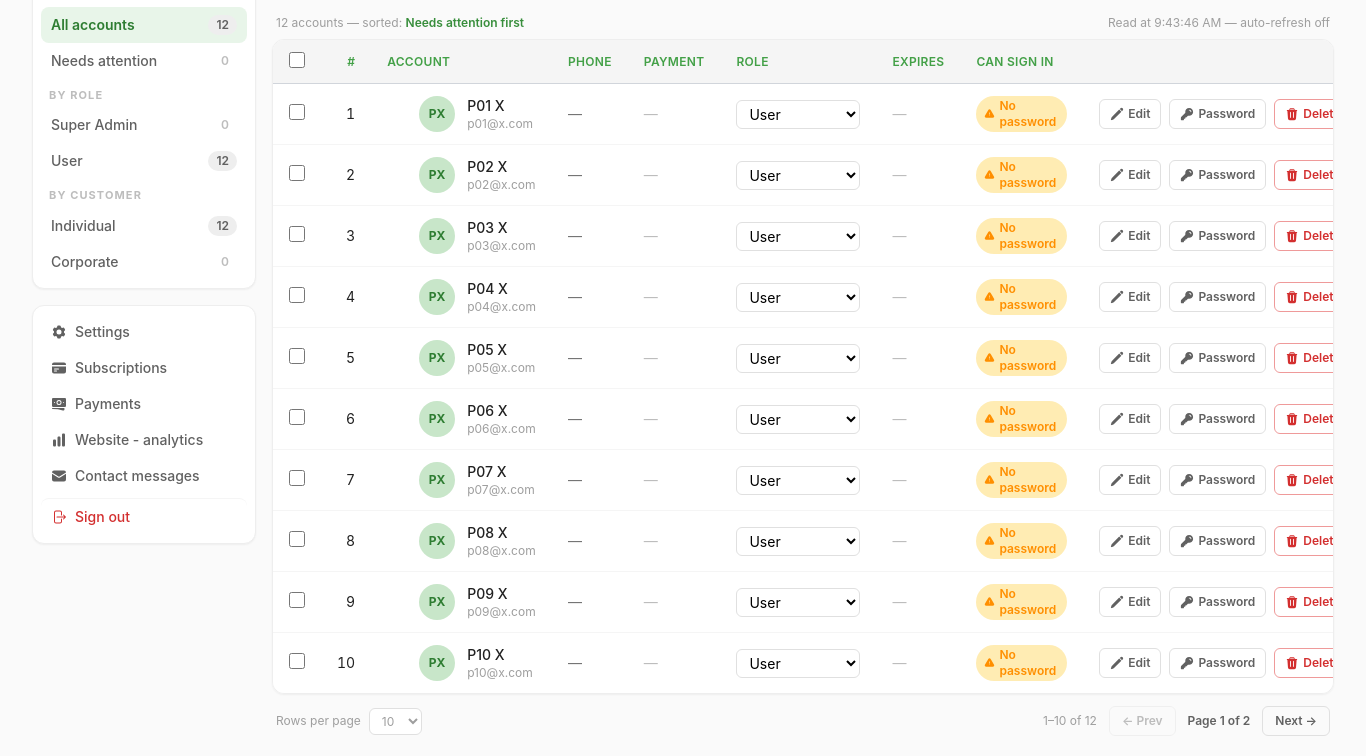
pagination › Next reaches the last two and nothing beyond them
The image size is (1366, 756).
(page scrolled)
Click the button "Next →".
click(1296, 721)  # box x1=1262 y1=706 x2=1330 y2=736
(page scrolled)
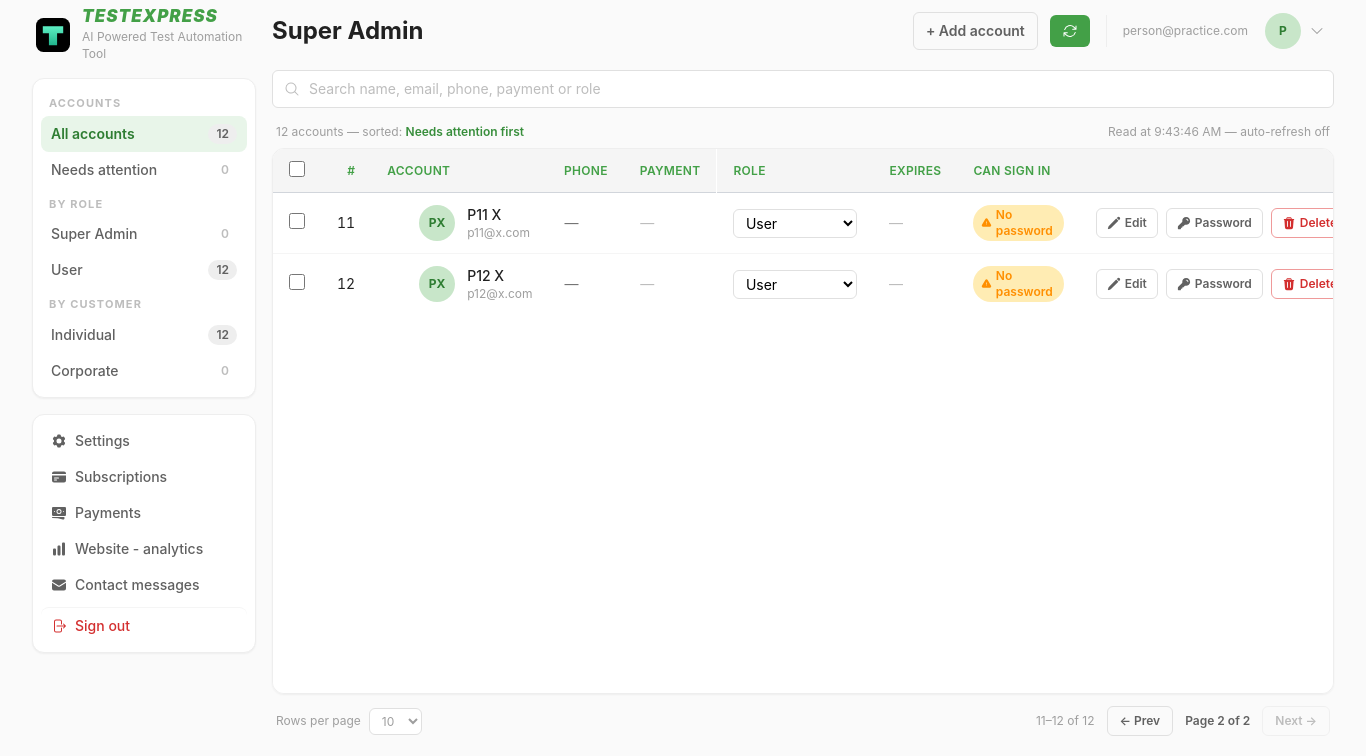
Expected: the navigation bar named "pagination" shows "11–12 of 12", x1=1036 y1=713 x2=1094 y2=728
Expected: the navigation bar named "pagination" shows "Page 2 of 2", x1=272 y1=706 x2=1334 y2=736
Expected: the button "Next →" is disabled, x1=1262 y1=706 x2=1330 y2=736
